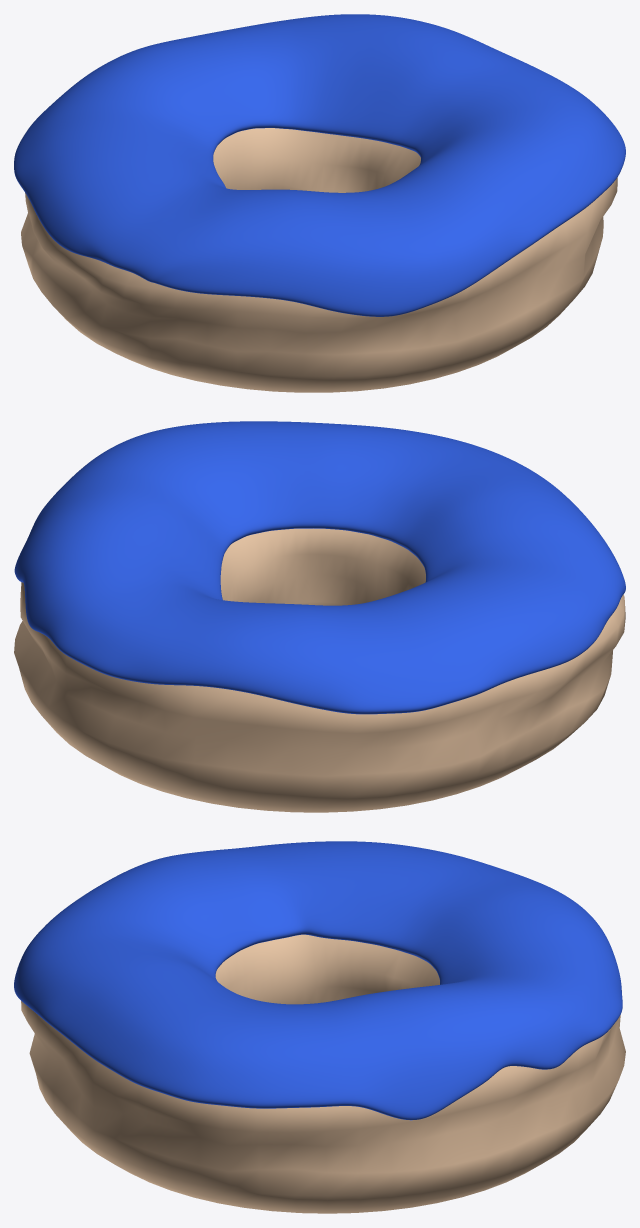
Rendered from donut.glb.
The picture shows the model from 3 angles, top to bottom: view 1: azimuth 30°, elevation 25°; view 2: azimuth 150°, elevation 25°; view 3: azimuth 270°, elevation 25°; orthographic projection. The views are drawn at different scales.
Visible parts, largest first — view 1: icing, donut; view 2: icing, donut; view 3: icing, donut.
Boxes of the visible parts, <box> form: icing: <box>14,14,625,316</box>; donut: <box>21,128,617,392</box>; icing: <box>14,421,625,714</box>; donut: <box>14,528,625,812</box>; icing: <box>14,841,622,1120</box>; donut: <box>21,934,625,1213</box>.
Bounding box in the file's own units: 0.1503 × 0.0542 × 0.1502.
